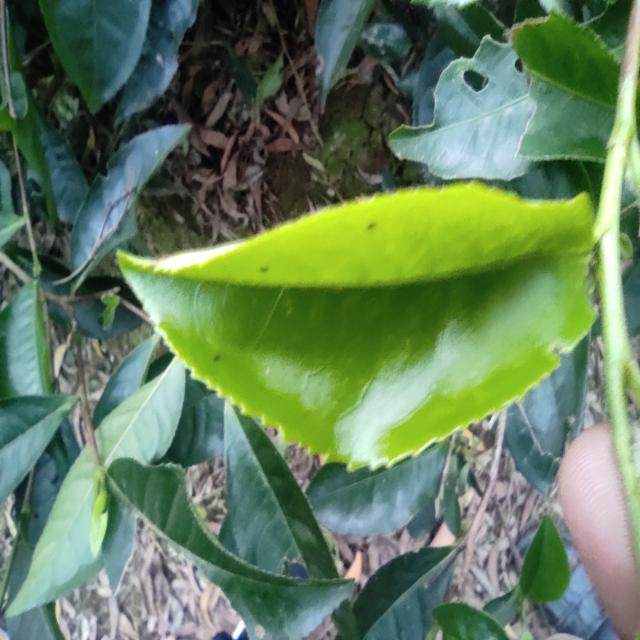Category C 4-7 days: (68, 142, 610, 502)
